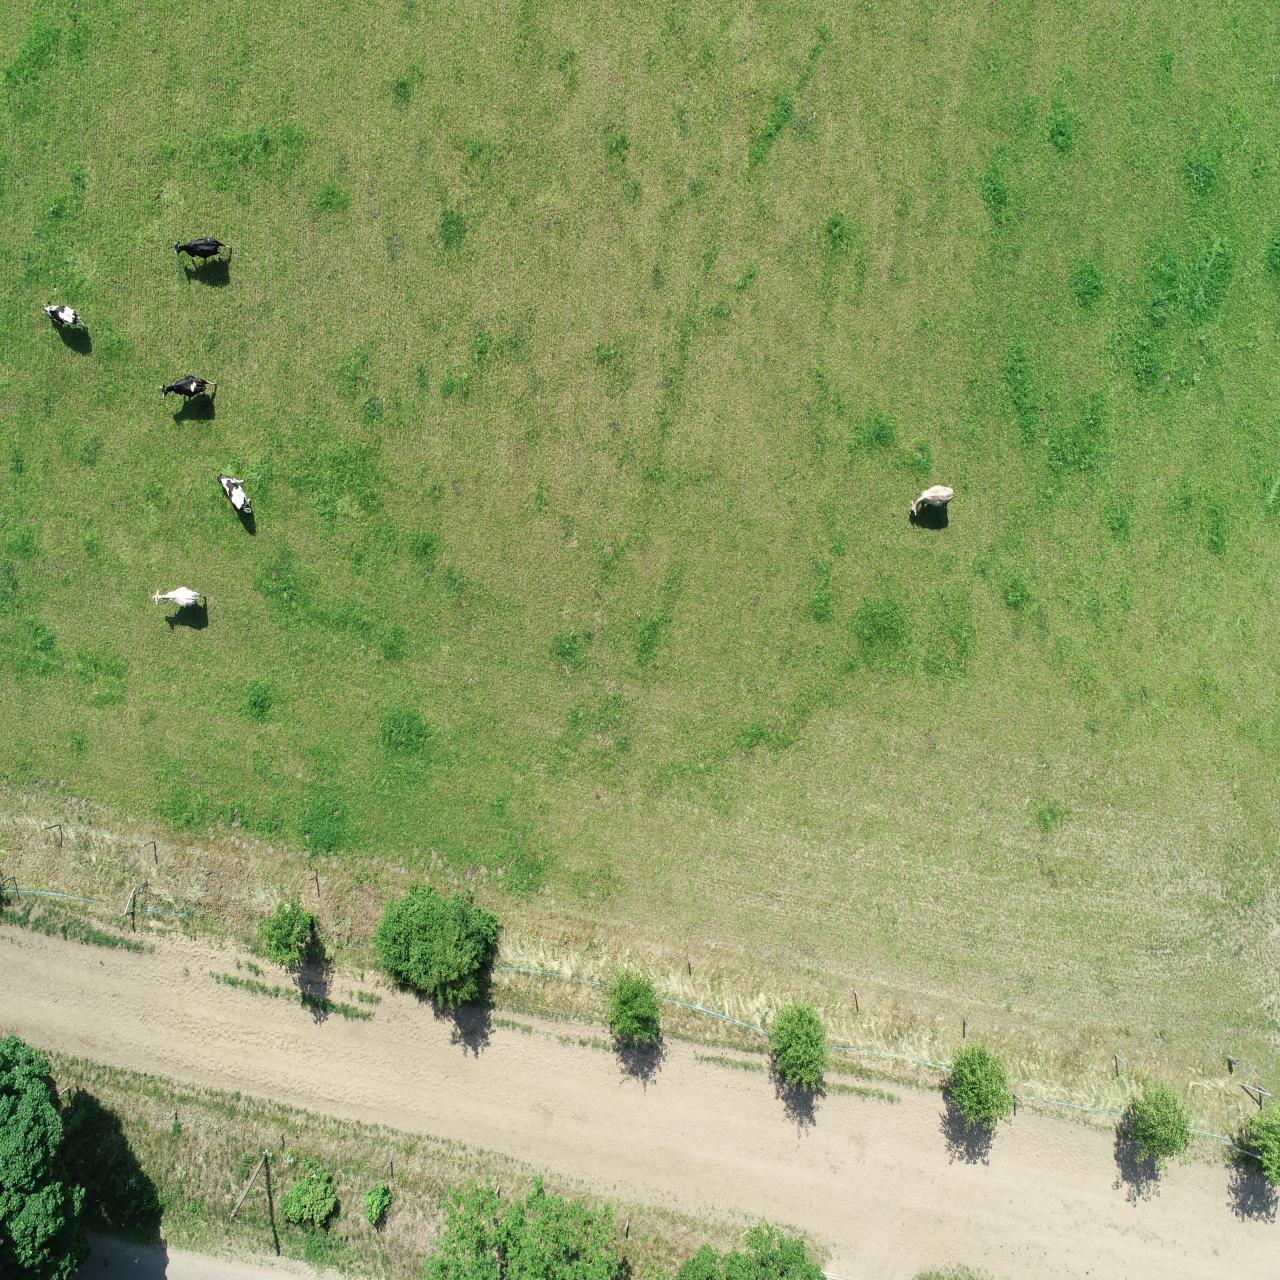cow: (211, 465, 260, 529), (165, 231, 234, 272), (904, 481, 958, 526), (154, 369, 220, 406), (34, 295, 91, 334), (148, 583, 207, 612)
